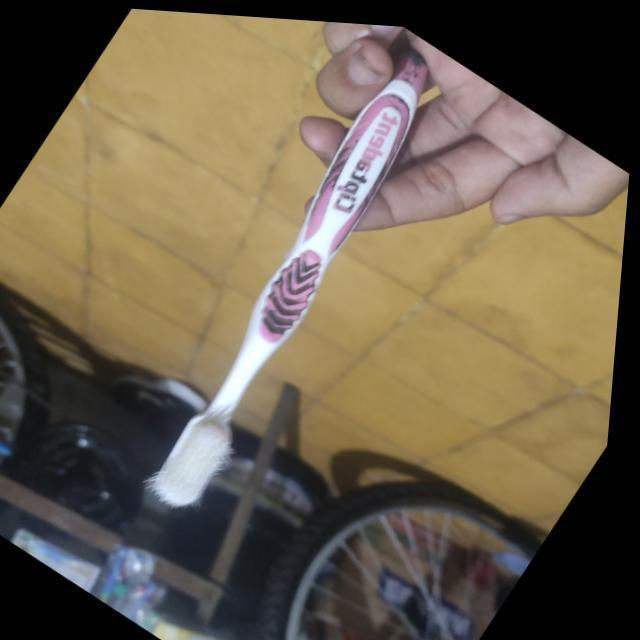toothbrush: (120, 31, 488, 546)
